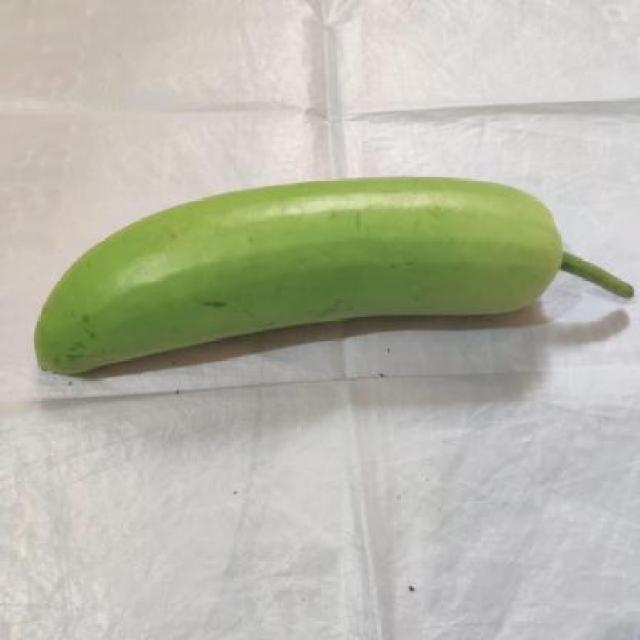Calabash: (0, 171, 635, 394)
